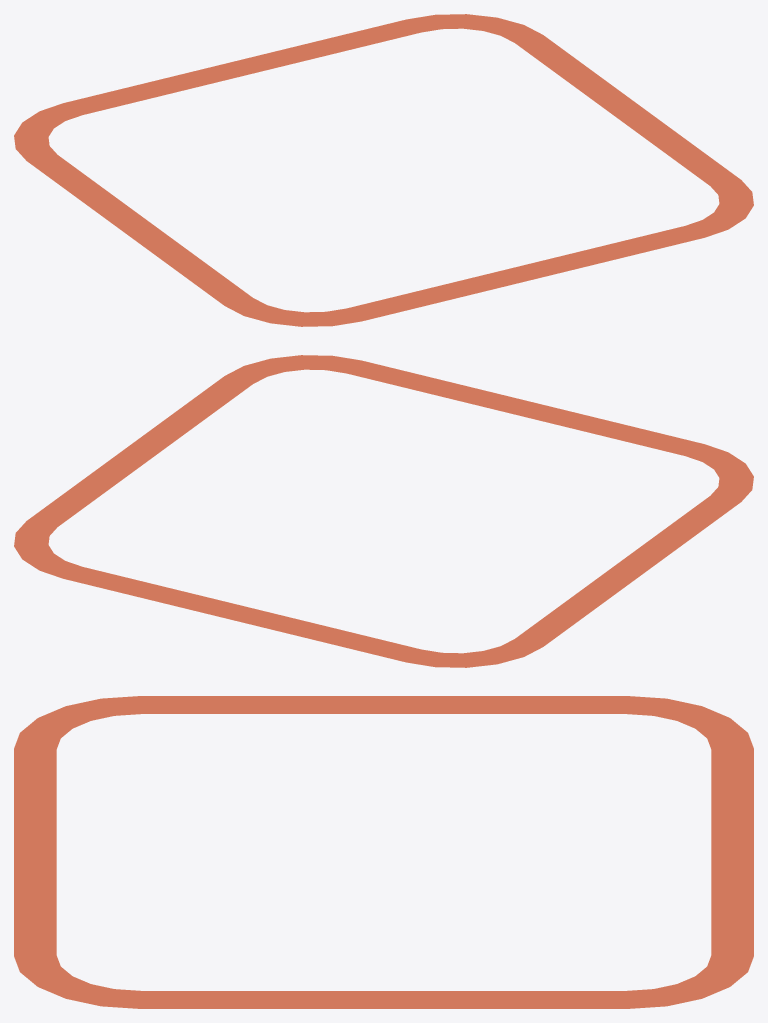
File: webslinger_claude.glb
3 renders of one model, top to bottom at view 1: azimuth 30°, elevation 25°; view 2: azimuth 150°, elevation 25°; view 3: azimuth 270°, elevation 25°, orthographic. The views are drawn at different scales.
Parts seen in each view (by area): view 1: webslinger_flat; view 2: webslinger_flat; view 3: webslinger_flat.
Part boxes in pixels (bbox=[...]): webslinger_flat: bbox=[14, 14, 753, 326]; webslinger_flat: bbox=[14, 355, 753, 667]; webslinger_flat: bbox=[14, 696, 753, 1008].
Size of the model in its own units: 1.06 by 0 by 1.06.
